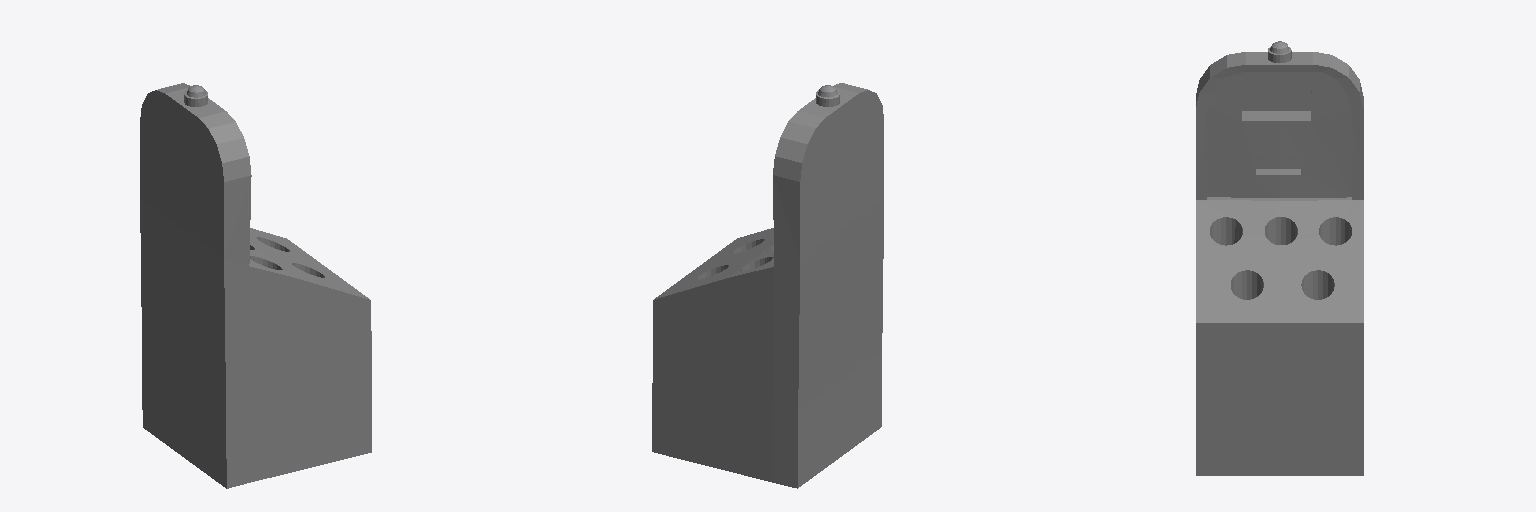
Rendered from MesaTopos.obj.
The picture shows the model from 3 angles: view 1: azimuth 30°, elevation 25°; view 2: azimuth 150°, elevation 25°; view 3: azimuth 270°, elevation 25°; orthographic projection.
Visible parts, largest first — view 1: polySurface7, Mesa; view 2: polySurface7, Mesa; view 3: Frente, Mesa, Score, polySurface7.
Part boxes in pixels (left/top/right/bottom): polySurface7: left=140, top=83, right=371, bottom=488; Mesa: left=249, top=228, right=369, bottom=299; polySurface7: left=652, top=83, right=883, bottom=488; Mesa: left=654, top=228, right=773, bottom=299; Frente: left=1196, top=323, right=1363, bottom=475; Mesa: left=1196, top=200, right=1363, bottom=322; Score: left=1207, top=72, right=1351, bottom=197; polySurface7: left=1196, top=41, right=1363, bottom=299.
Size of the model in its own units: 6.95 by 16.55 by 6.86.